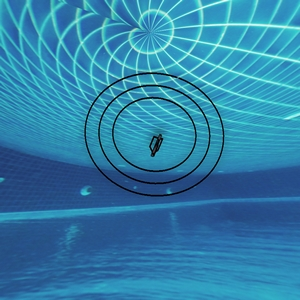circle: (80, 59, 238, 222)
submarine: (149, 134, 164, 161)
